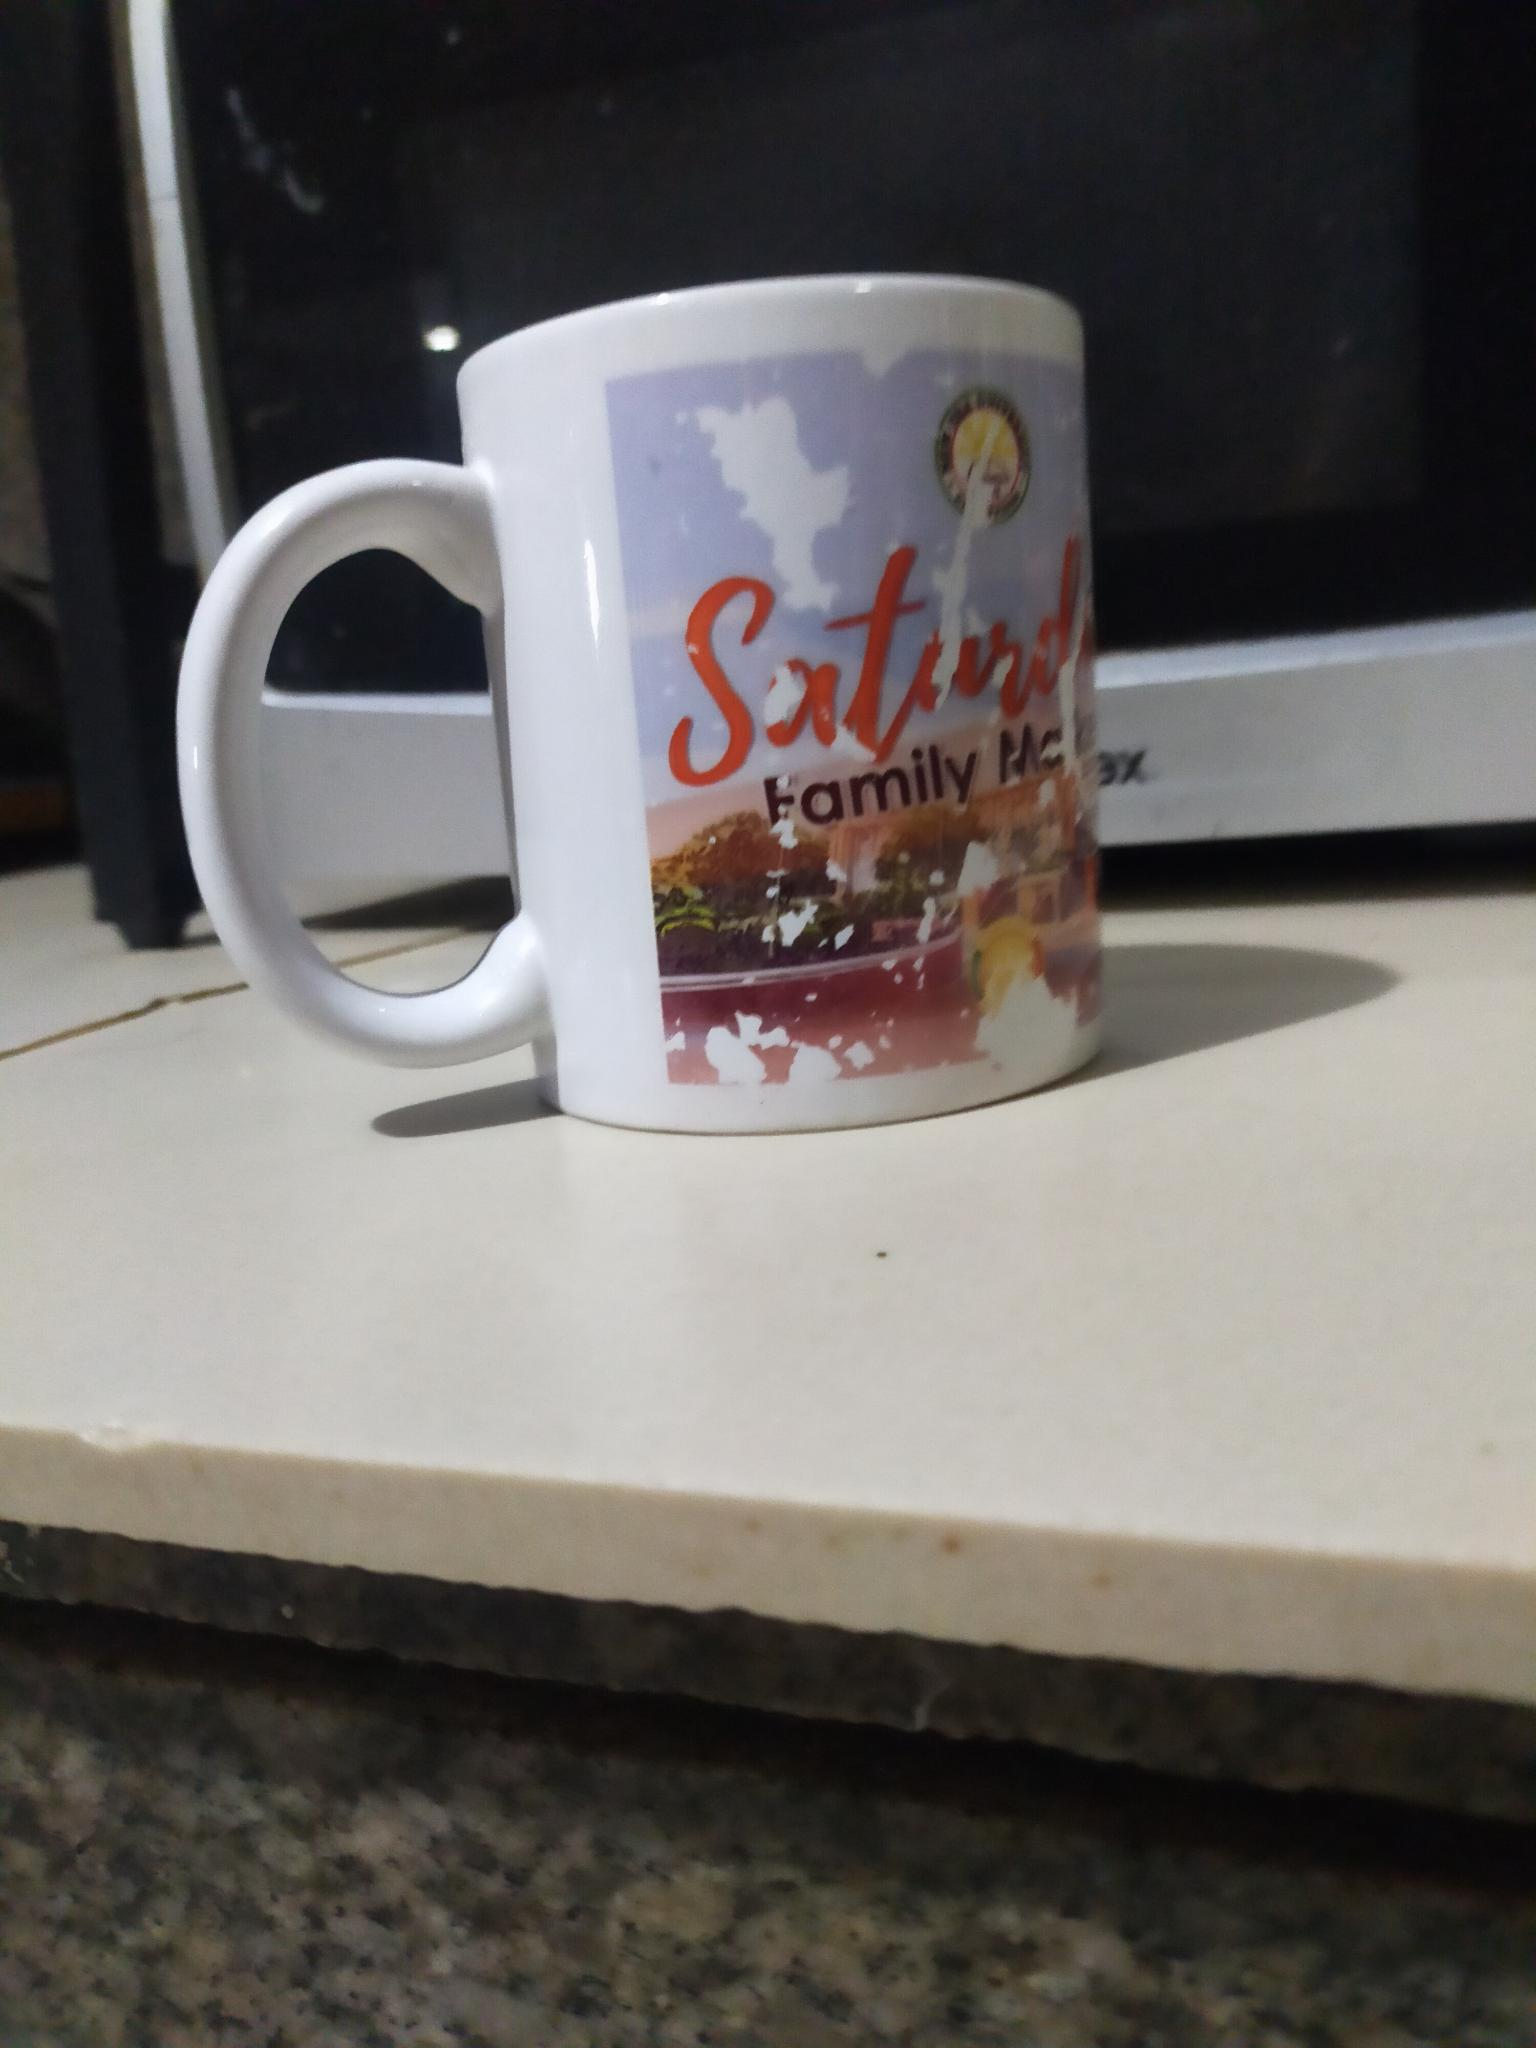Coffee Mug: (179, 279, 1108, 1137)
